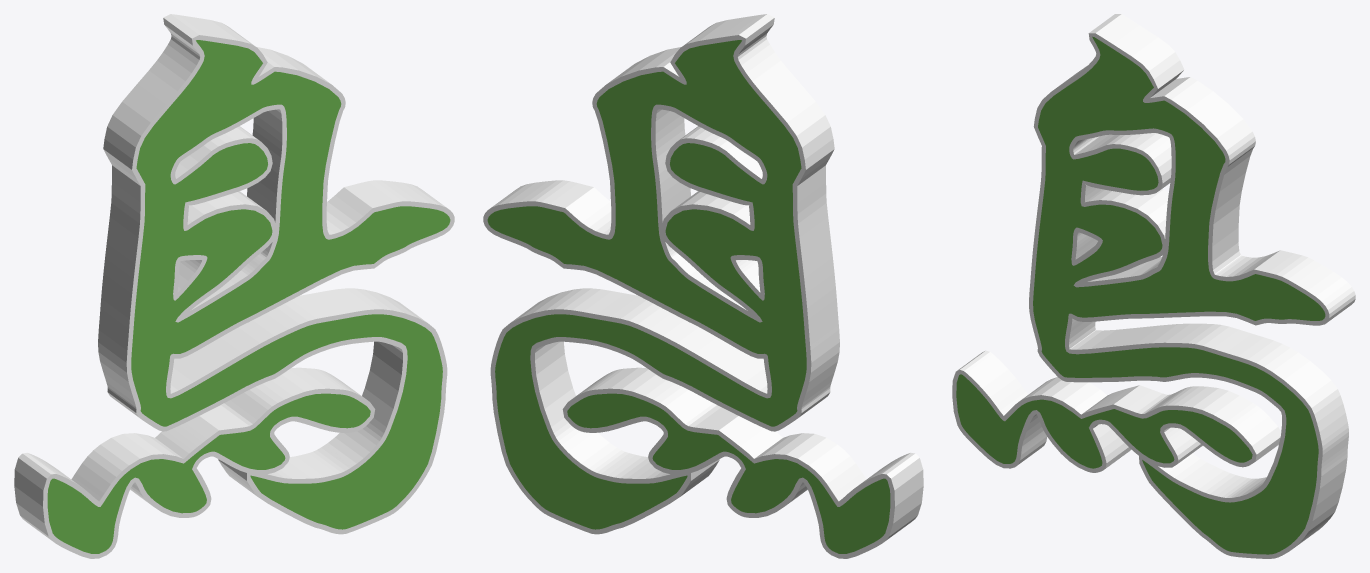
Rendered from model_tori.glb.
3 views of the same model, side by side, from view 1: azimuth 30°, elevation 25°; view 2: azimuth 150°, elevation 25°; view 3: azimuth 330°, elevation 25° (orthographic). The views are drawn at different scales.
Visible parts, largest first — view 1: TraceGenius Object_tori.001, TraceGenius Object_tori.002; view 2: TraceGenius Object_tori.001, TraceGenius Object_tori.002; view 3: TraceGenius Object_tori.001, TraceGenius Object_tori.002.
Boxes of the visible parts, x1,y1,x2,y2 form: TraceGenius Object_tori.001: (47, 40, 450, 553); TraceGenius Object_tori.002: (14, 14, 454, 558); TraceGenius Object_tori.001: (487, 40, 890, 553); TraceGenius Object_tori.002: (483, 14, 923, 558); TraceGenius Object_tori.001: (956, 36, 1325, 554); TraceGenius Object_tori.002: (952, 14, 1355, 558).
Bounding box in the file's own units: 2.73 × 3.39 × 0.33.
